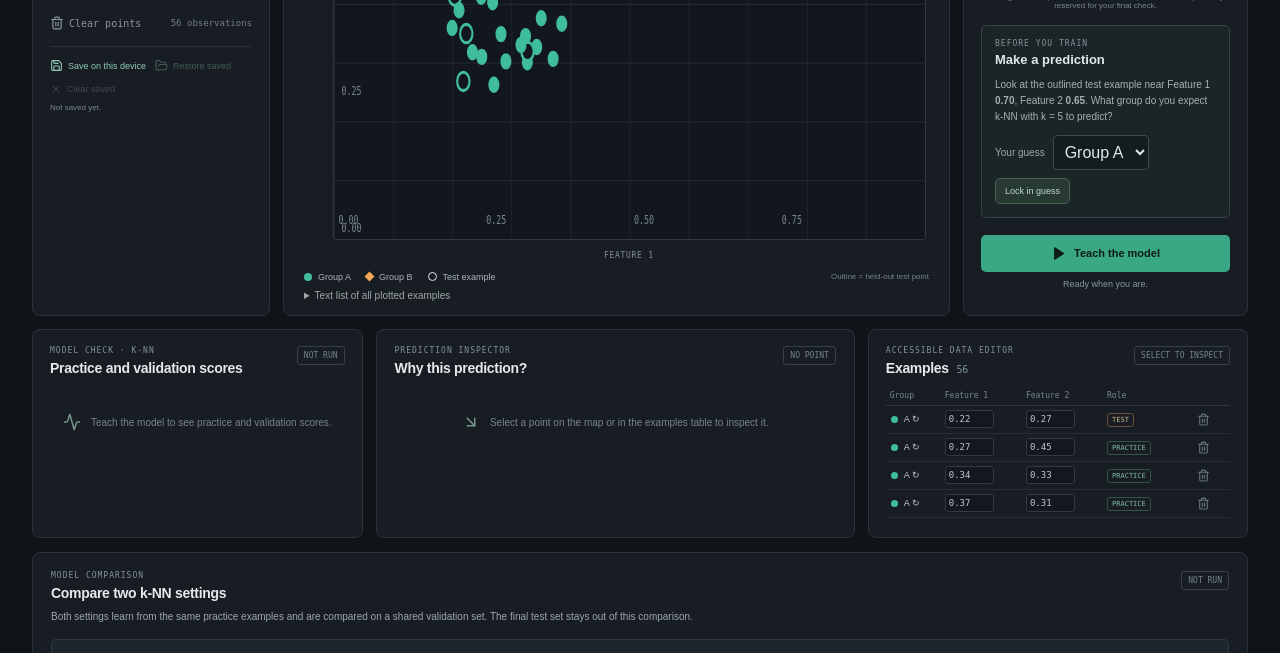
Test: AI Playground workspace › saves and restores experiment data locally without restoring model results
(page scrolled)
Click the button "Teach the model" at (1106, 253), box [981,235,1230,272]
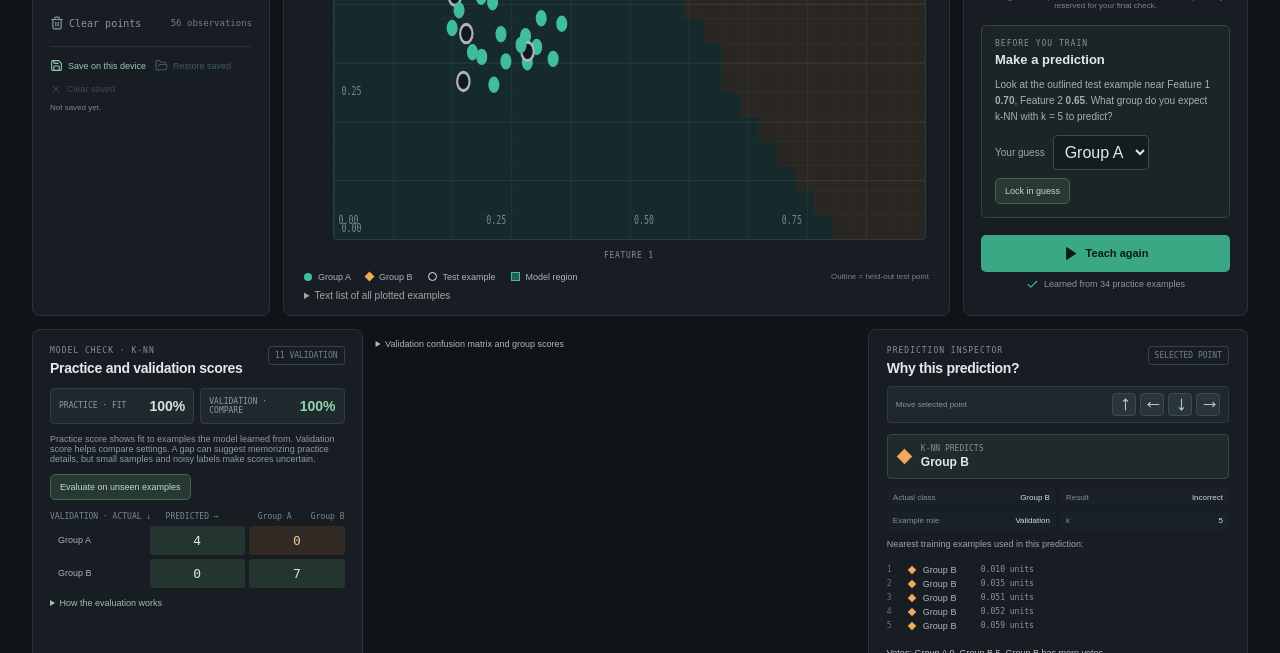
Click the button "Save on this device" at (98, 66), box [50,55,147,76]
(page scrolled)
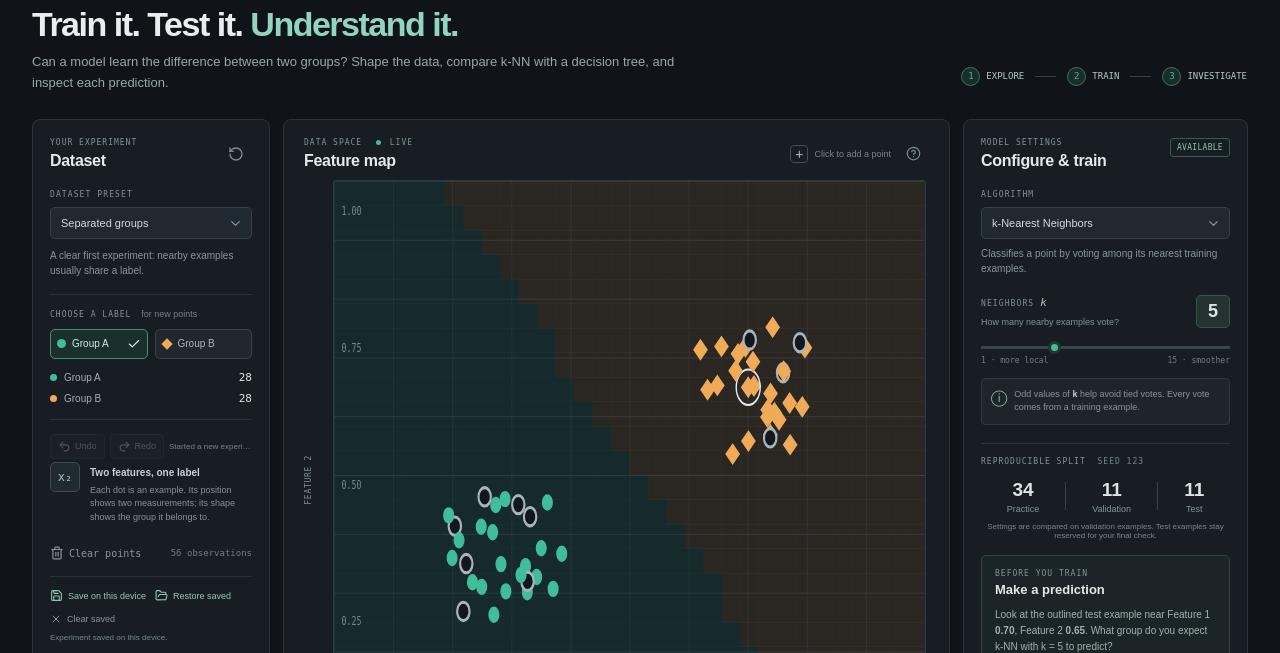
Select "Noisy labels" in the dropdown labelled "DATASET PRESET" at (151, 223), box [50,207,252,239]
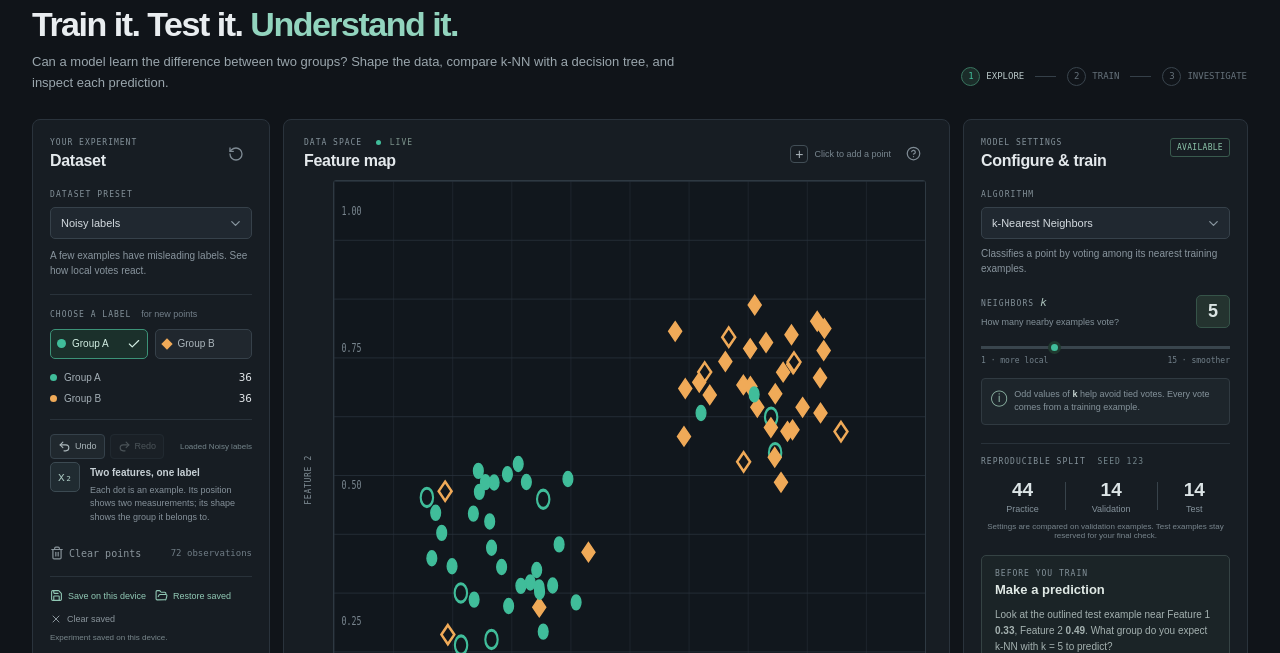
Now the text "72 observations" is shown, box [171,548,252,558]
Click the button "Restore saved" at (204, 596), box [155,585,252,606]
(page scrolled)
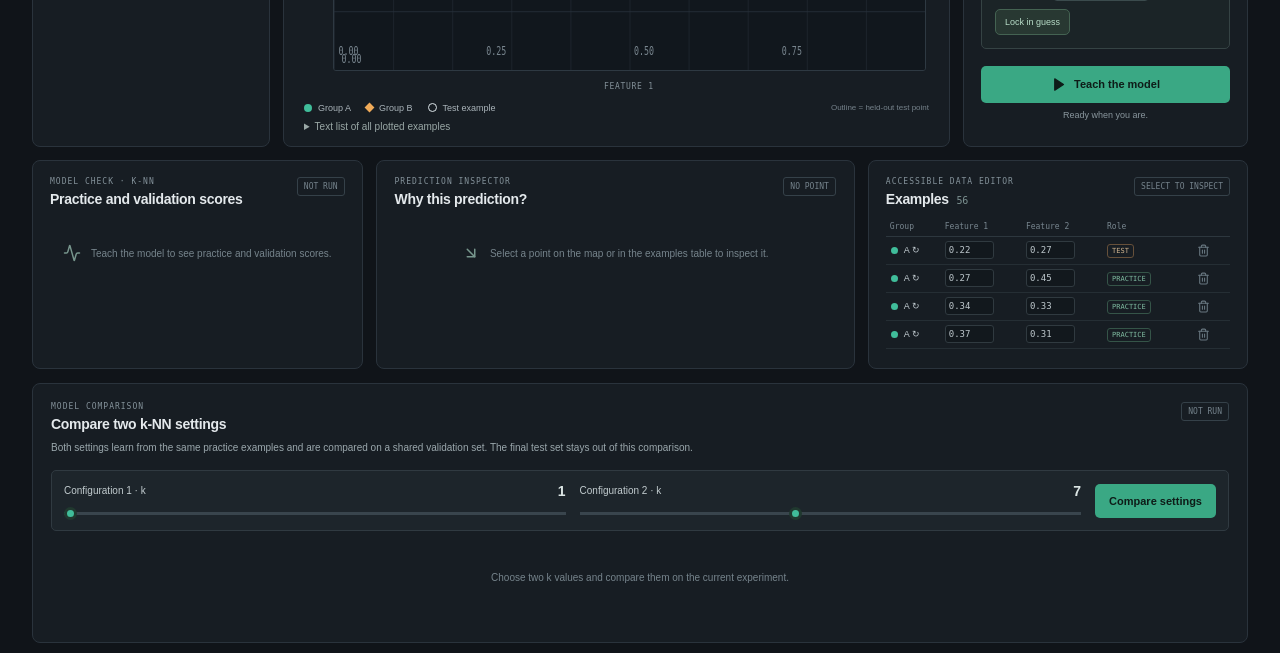
Now the text "Teach the model to see practice and validation scores." is shown, box [91,246,332,261]
